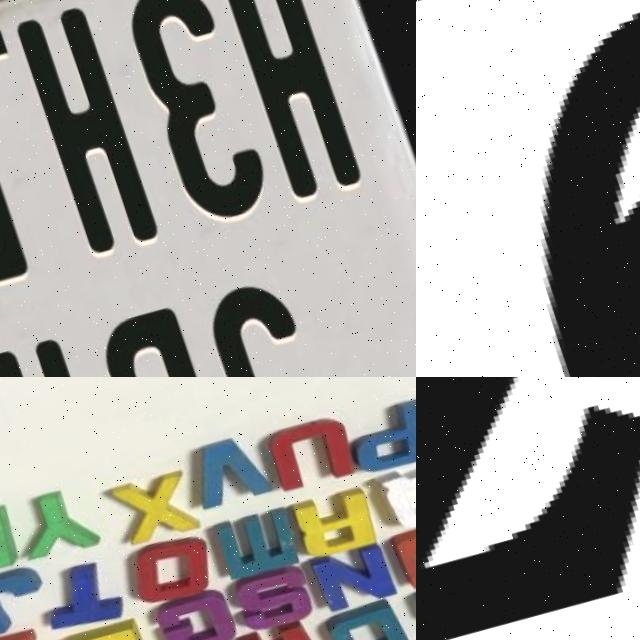3: (110, 0, 278, 225), (189, 264, 356, 377)
9: (445, 0, 640, 377)
A: (229, 617, 315, 640)
D: (82, 303, 247, 377), (315, 593, 406, 640)
F: (0, 496, 25, 589)
G: (138, 584, 227, 640)
H: (6, 0, 159, 255), (214, 0, 362, 199)
J: (0, 559, 45, 640)
L: (53, 610, 154, 640)
M: (205, 497, 302, 580)
N: (294, 532, 398, 616)
O: (117, 524, 218, 606)
P: (338, 394, 416, 475)
Q: (371, 447, 416, 532)
R: (282, 478, 384, 562)
S: (216, 556, 309, 635)
T: (31, 555, 126, 634)
U: (255, 411, 356, 495)
V: (176, 424, 269, 507)
W: (379, 504, 416, 590)
X: (97, 461, 200, 550)
Y: (3, 482, 92, 563)
Z: (416, 377, 640, 640)
